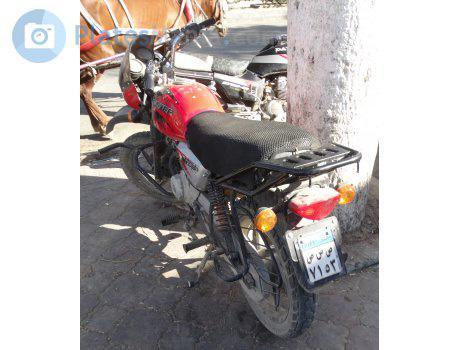License Plate: (297, 225, 349, 287)
